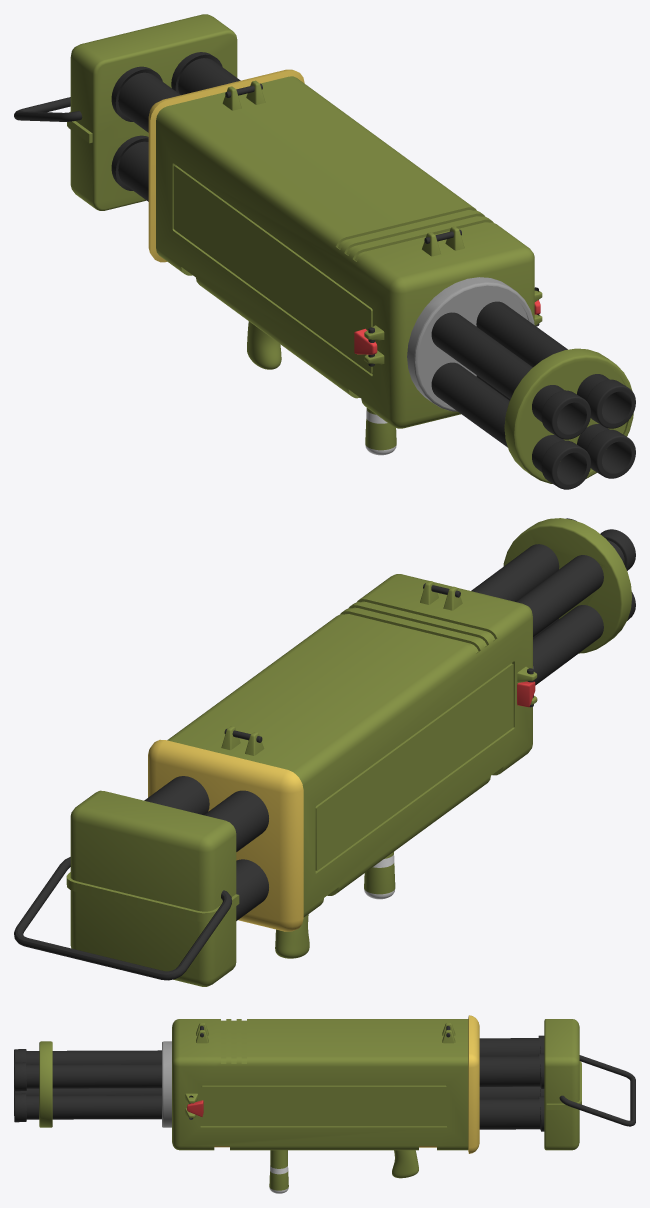
The model's file is minigun.fbx.
3 views of the same model, one above another, from view 1: azimuth 30°, elevation 25°; view 2: azimuth 150°, elevation 25°; view 3: azimuth 270°, elevation 25° (orthographic). The views are drawn at different scales.
Visible parts, largest first — view 1: minigun; view 2: minigun; view 3: minigun.
Part boxes in pixels (x1=…): minigun: x1=14, y1=14, x2=635, y2=489; minigun: x1=14, y1=518, x2=635, y2=986; minigun: x1=14, y1=1015, x2=635, y2=1193.
Bounding box in the file's own units: 251 × 352 × 1209.
